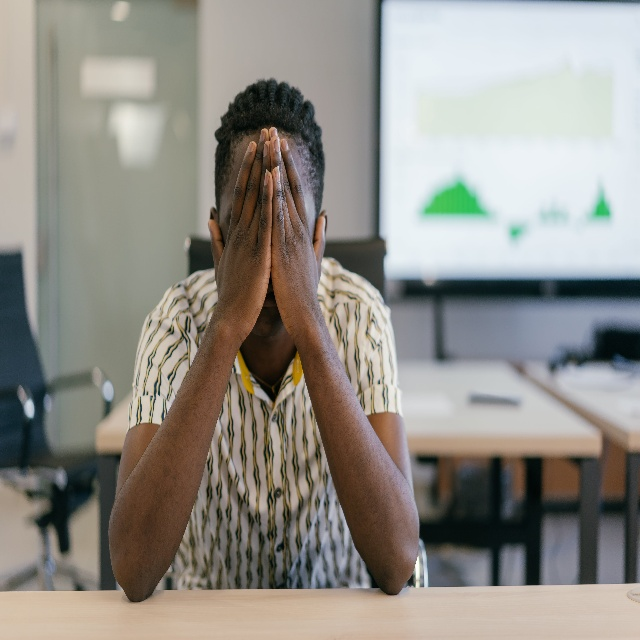Sin_guantes: (209, 127, 274, 345), (267, 125, 325, 339)
